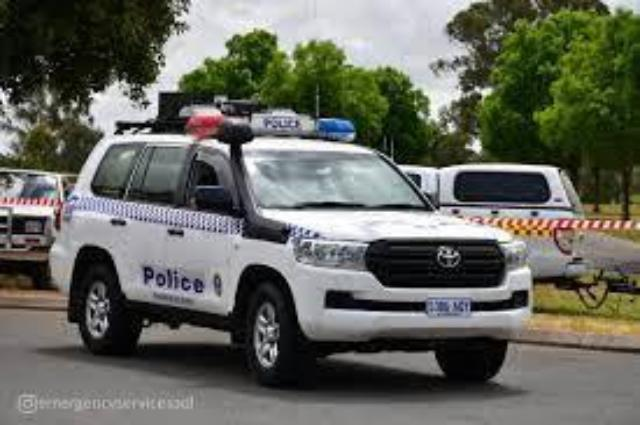police: (61, 107, 535, 386)
